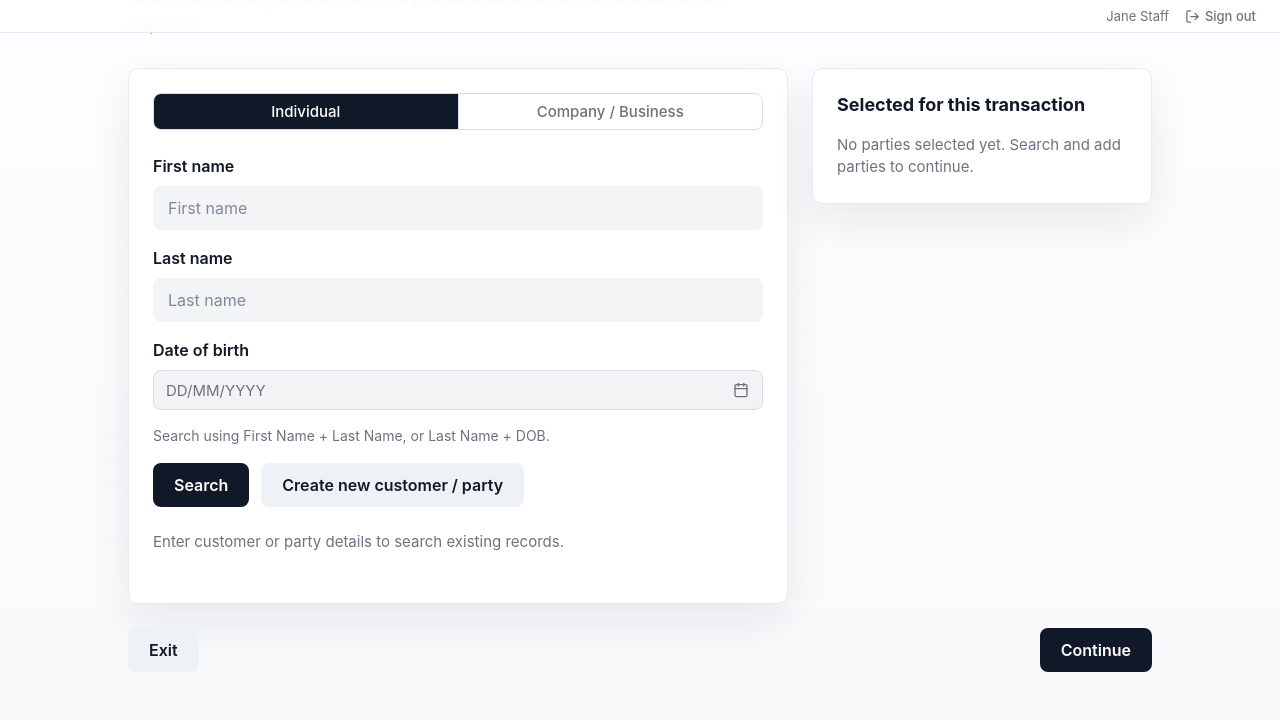
Test: CustomerSearchPage › shows a validation error when continue is clicked with zero selected parties
(page scrolled)
Click the button "Continue" at x=1096, y=650, box left=1040, top=628, right=1152, bottom=672
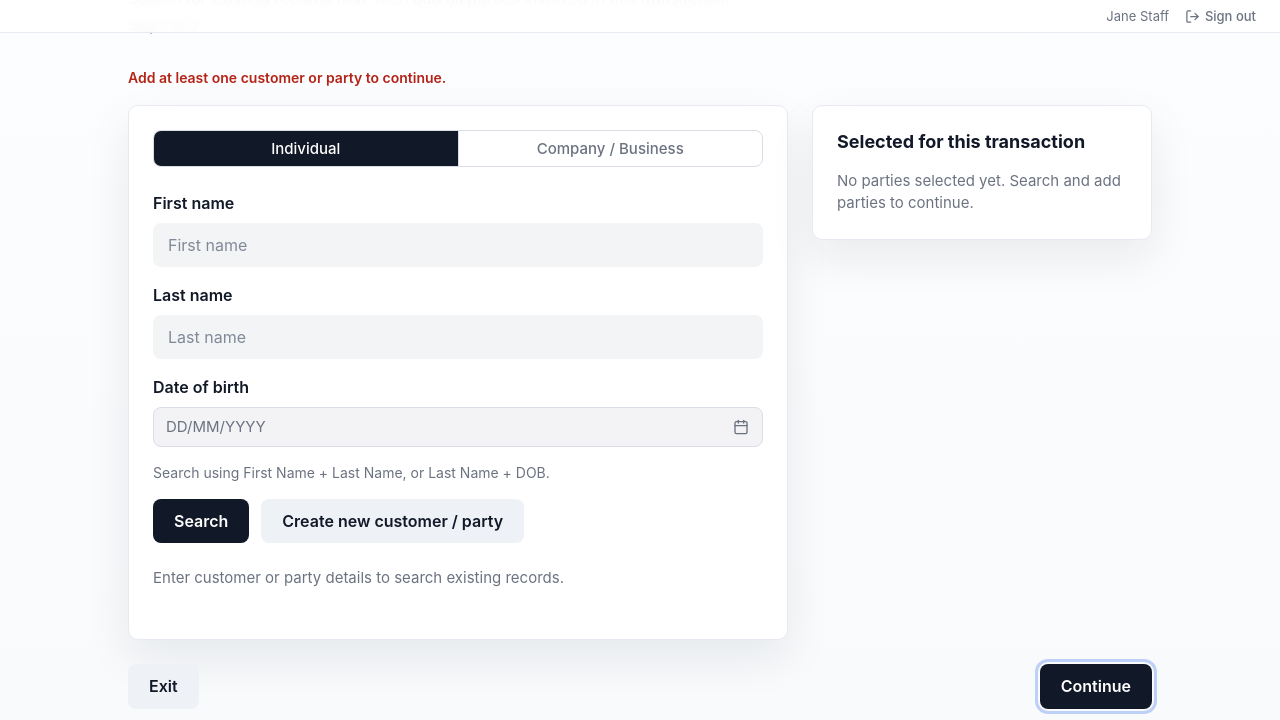
Check: the text "Add at least one customer or party to continue." is shown, box left=128, top=69, right=446, bottom=86
